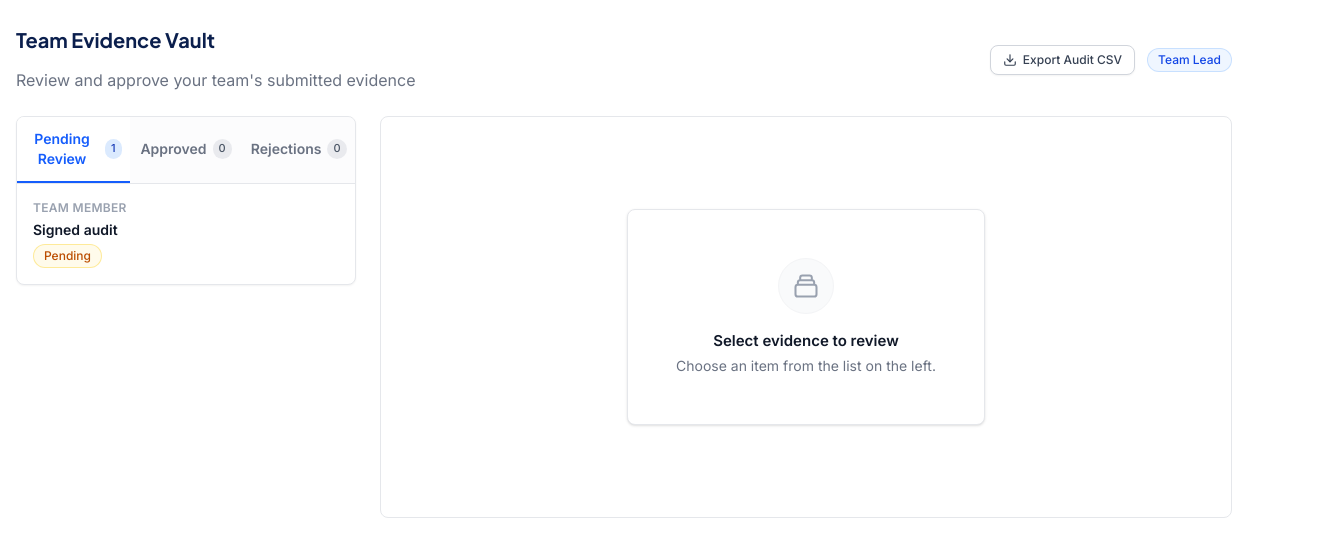
Test case: TL Reviews › shows the export error when the CSV request fails
Click the button "Export Audit CSV": [1062, 60] box [990, 45, 1135, 75]
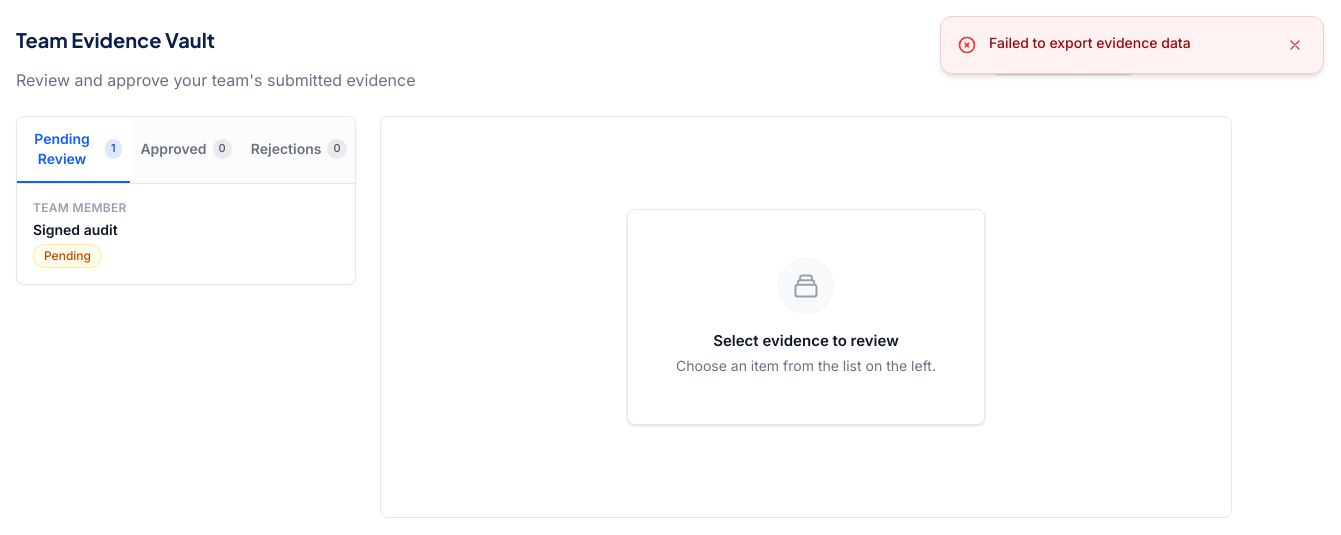
Check: the text "Failed to export evidence data" is shown, box [989, 34, 1191, 51]
